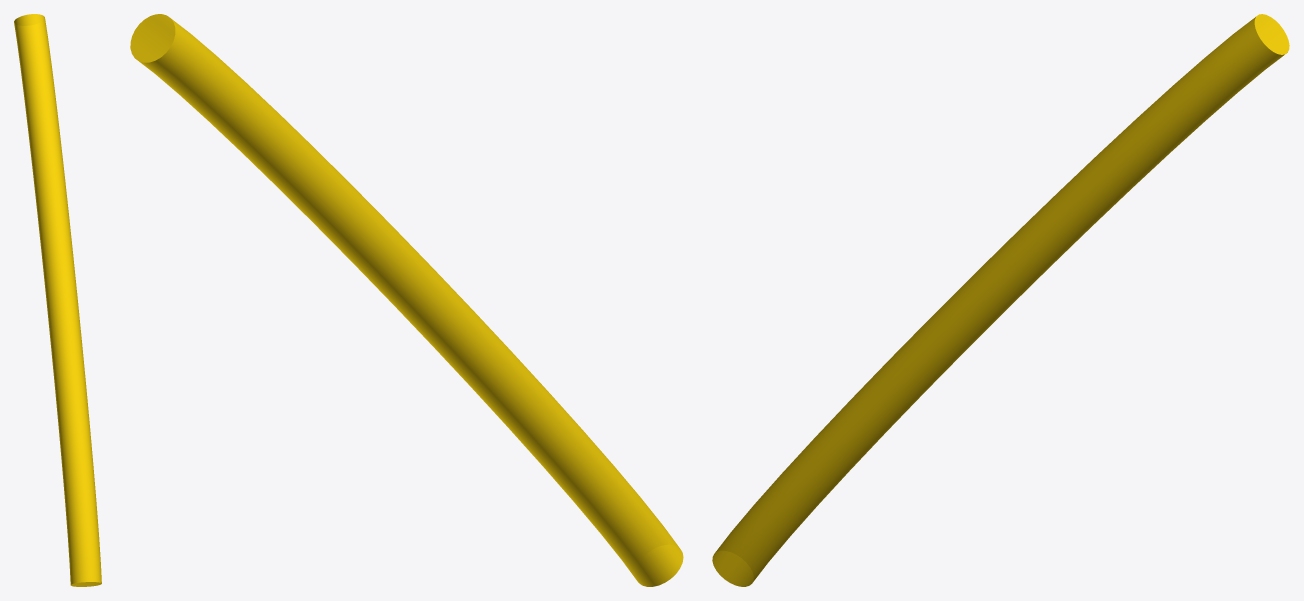
The model's file is Event_421127236_track_3.fbx.
3 renders of one model, left to right at view 1: azimuth 30°, elevation 25°; view 2: azimuth 150°, elevation 25°; view 3: azimuth 270°, elevation 25°, orthographic. The views are drawn at different scales.
Visible parts, largest first — view 1: Model; view 2: Model; view 3: Model.
Boxes of the visible parts, box(x1,y1,x2,y2) form: Model: box(14, 14, 101, 586); Model: box(130, 14, 683, 586); Model: box(712, 14, 1289, 586).
Bounding box in the file's own units: 0.2137 × 0.5963 × 0.4789.
